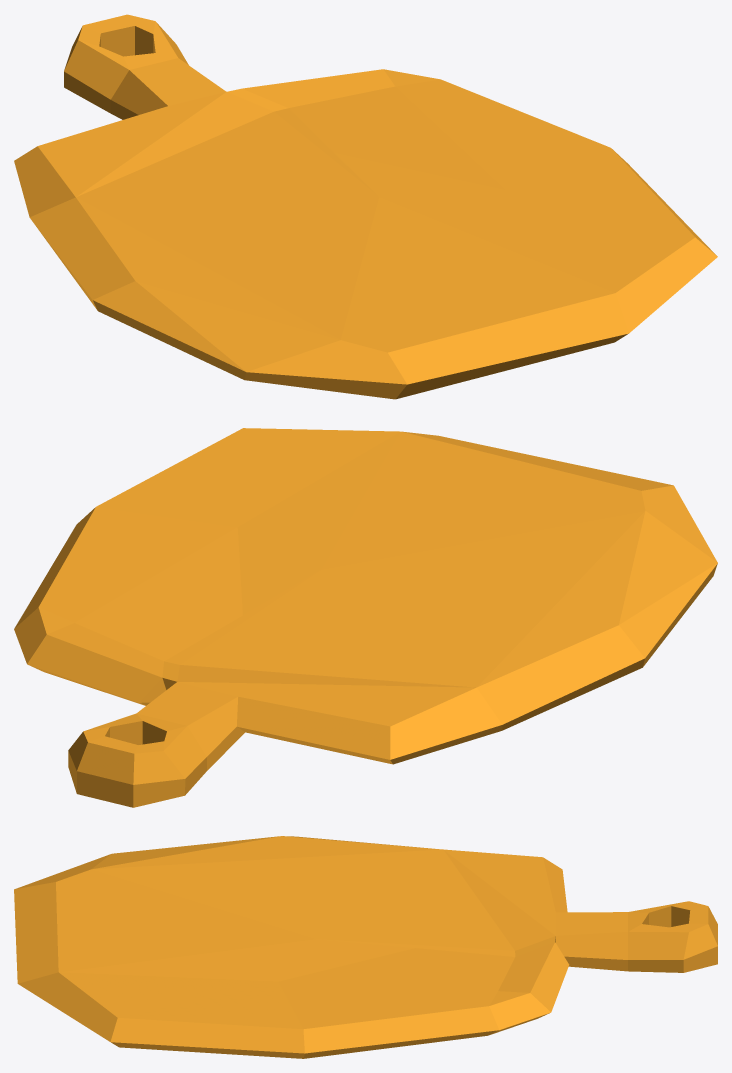
The model's file is SM_Cutting_Board_Round.fbx.
3 views of the same model, one above another, from view 1: azimuth 30°, elevation 25°; view 2: azimuth 150°, elevation 25°; view 3: azimuth 270°, elevation 25° (orthographic). The views are drawn at different scales.
Visible parts, largest first — view 1: cutting-board-round; view 2: cutting-board-round; view 3: cutting-board-round.
Boxes of the visible parts, x1,y1,x2,y2 form: cutting-board-round: (14,14,717,399); cutting-board-round: (14,428,717,807); cutting-board-round: (14,836,717,1058).
Size of the model in its own units: 0.3321 by 0.0293 by 0.4545.
